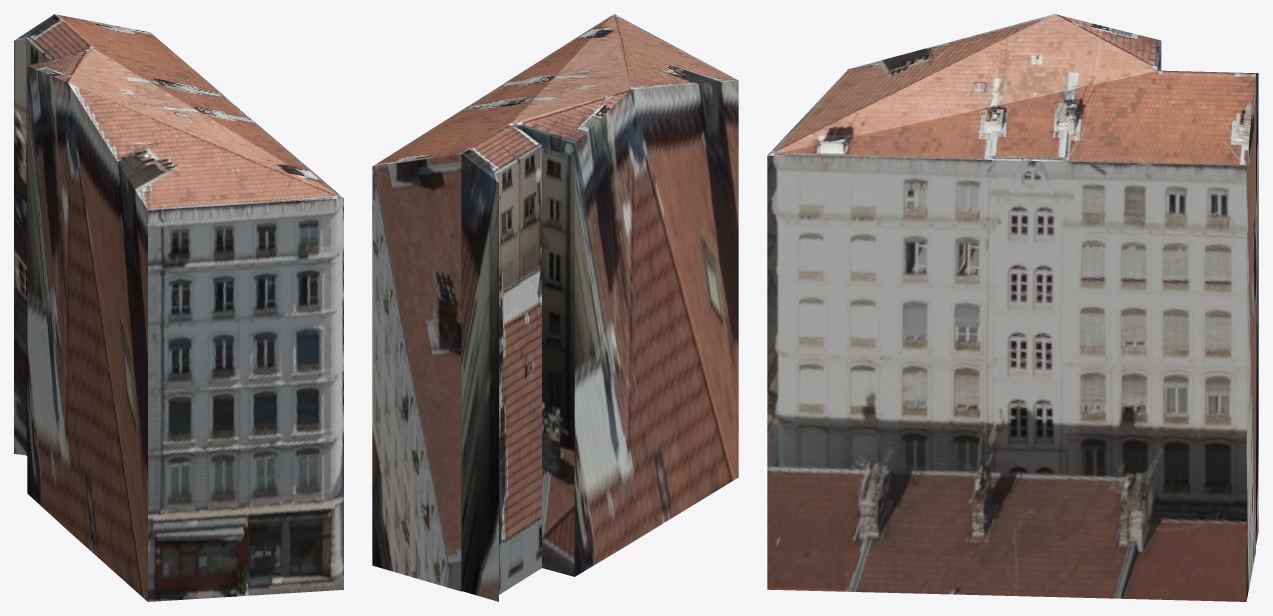
3 renders of one model, left to right at view 1: azimuth 30°, elevation 25°; view 2: azimuth 150°, elevation 25°; view 3: azimuth 270°, elevation 25°, orthographic. The views are drawn at different scales.
Parts seen in each view (by area): view 1: Z_UP; view 2: Z_UP; view 3: Z_UP.
Part boxes in pixels (x1,y1,x2,y2): Z_UP: [14, 14, 343, 601]; Z_UP: [372, 14, 738, 601]; Z_UP: [767, 14, 1258, 601].
Size of the model in its own units: 11.59 by 27.24 by 24.44.
Materials: 2 (1 with a texture image).
